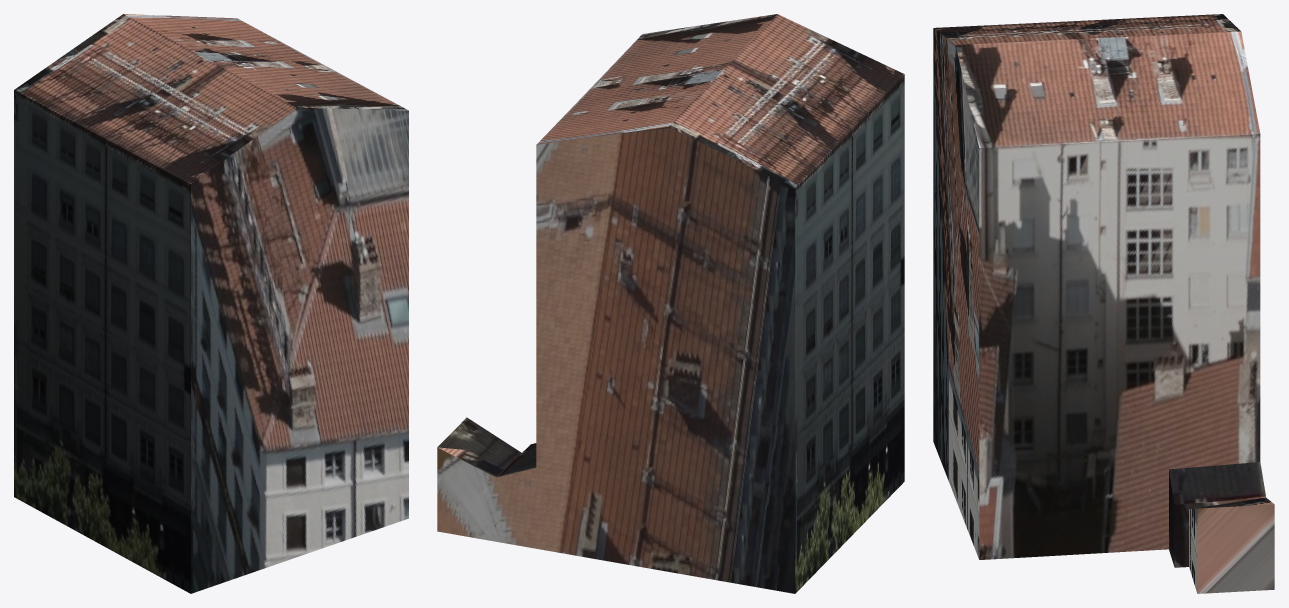
The picture shows the model from 3 angles, left to right: view 1: azimuth 30°, elevation 25°; view 2: azimuth 150°, elevation 25°; view 3: azimuth 270°, elevation 25°; orthographic projection.
Visible parts, largest first — view 1: Z_UP; view 2: Z_UP; view 3: Z_UP.
Boxes of the visible parts, bbox=[...] form: Z_UP: bbox=[14, 14, 408, 593]; Z_UP: bbox=[437, 14, 904, 593]; Z_UP: bbox=[933, 14, 1274, 593].
Bounding box in the file's own units: 19.98 × 25.03 × 17.06.
Materials: 2 (1 with a texture image).
